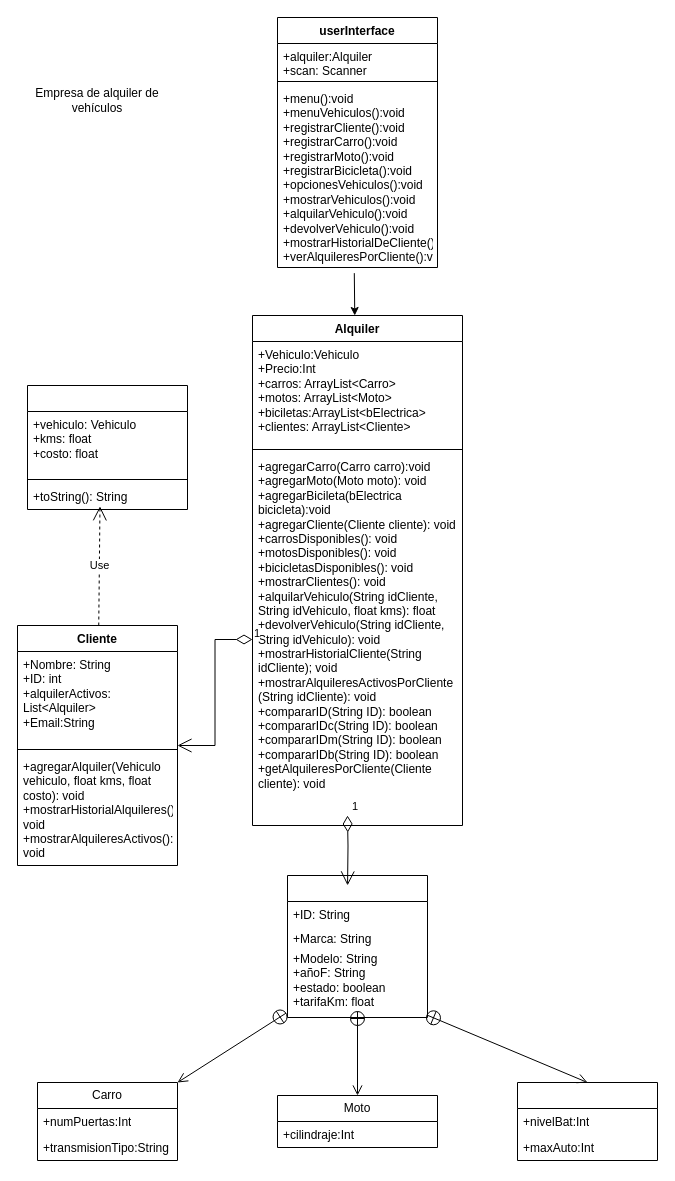
Image size: 675x1181. Some labels were removed from this diagram. Each missing label, with the box of its shape:
Bicicletas eléctrica: (516, 1082, 658, 1160)
RegistroAlquiler: (26, 384, 188, 510)
Vehiculo: (286, 874, 428, 1018)
